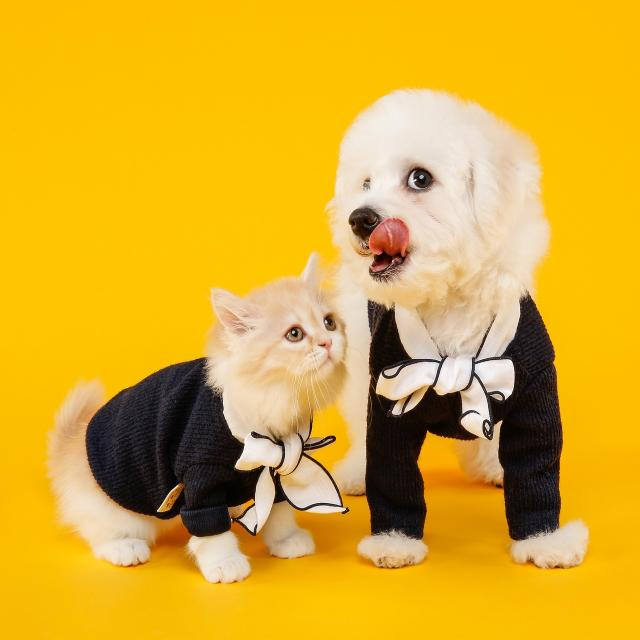cat: (47, 251, 346, 586)
dog: (329, 92, 604, 570)
